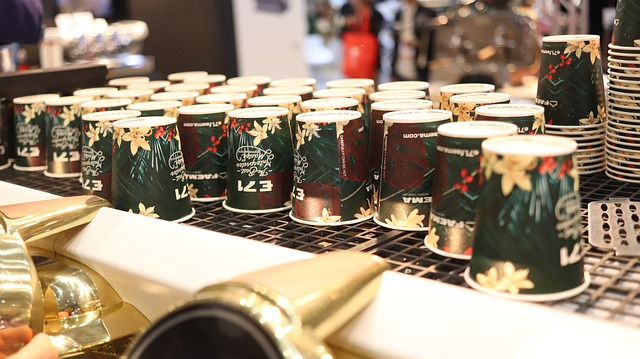cup: (463, 134, 599, 301), (100, 114, 200, 225), (294, 111, 380, 229), (218, 104, 302, 214), (378, 110, 437, 238), (535, 31, 609, 130)
